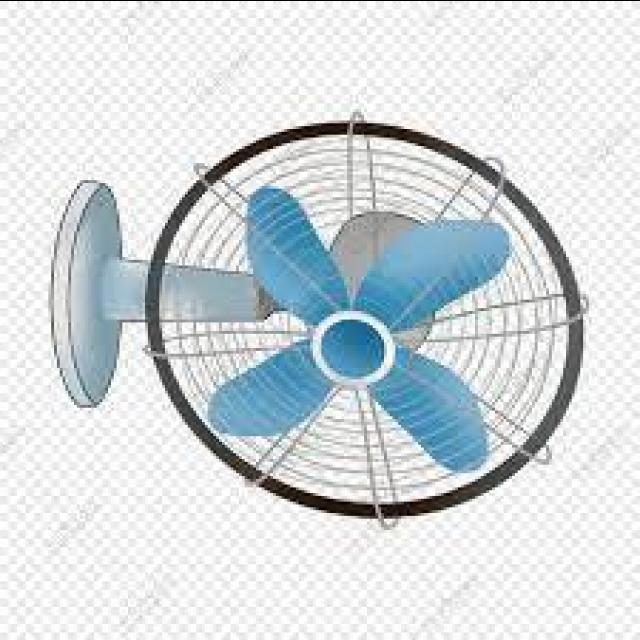fan: (41, 104, 592, 524)
